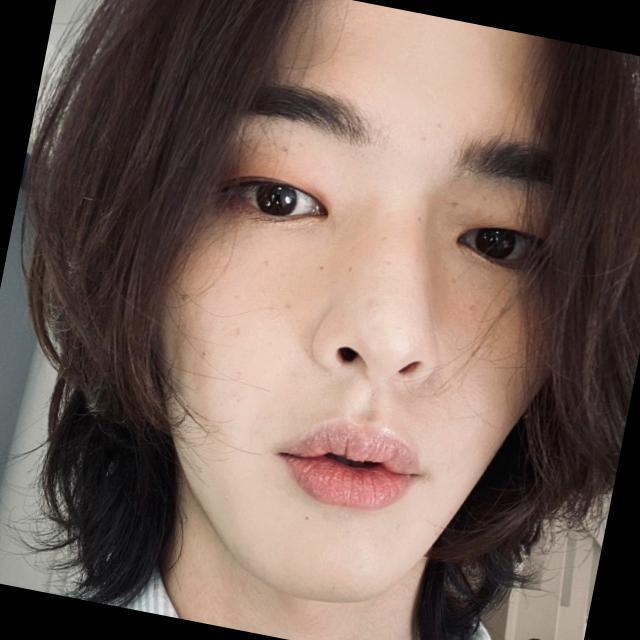freckle: (179, 198, 495, 386), (392, 106, 476, 236)
